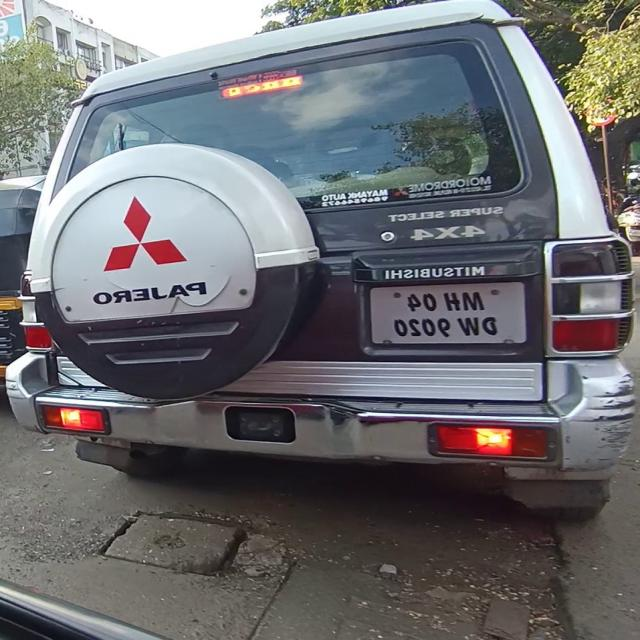license_plate: (359, 276, 531, 364)
